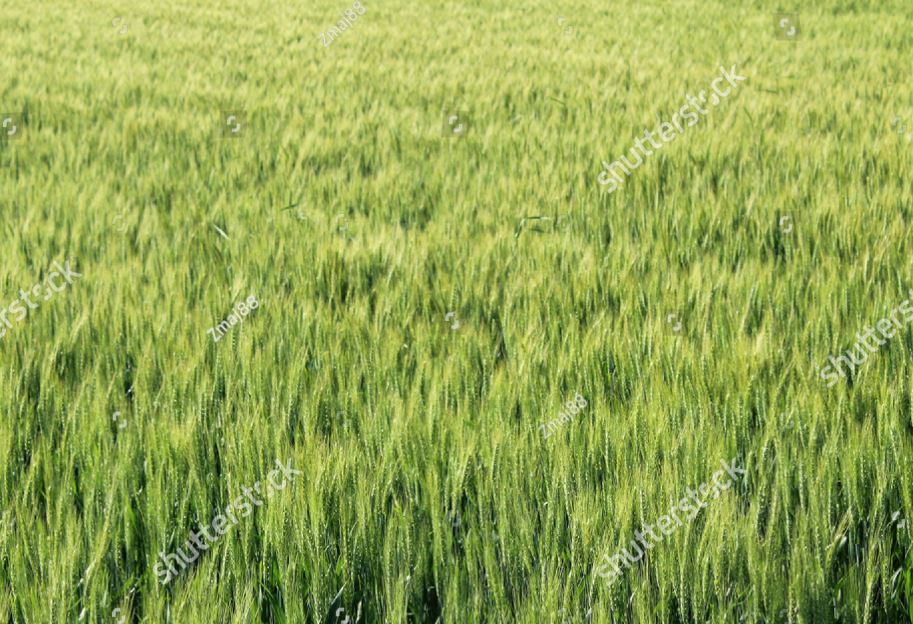Wheat: (334, 286, 669, 624)
